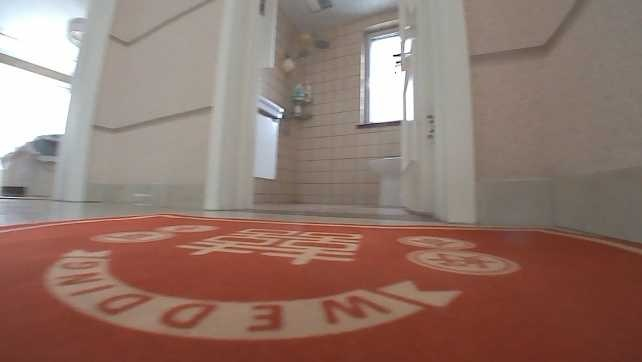blanket: (0, 210, 640, 360)
toilet: (370, 155, 400, 207)
